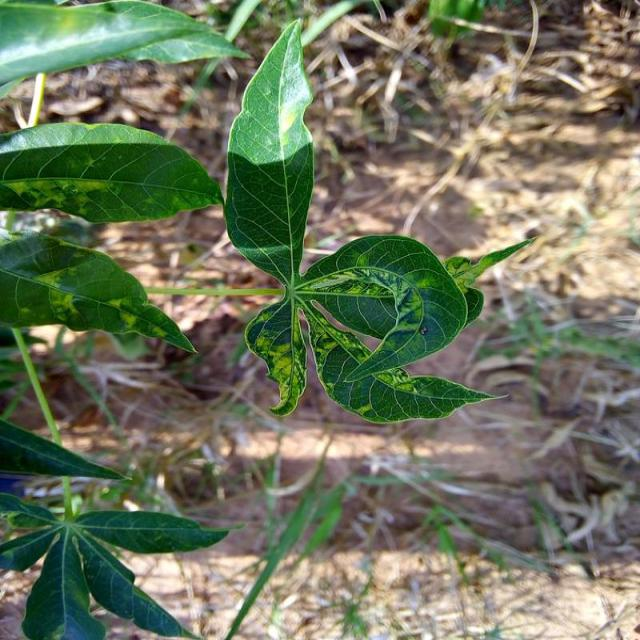cassava leaf: (222, 17, 534, 425), (0, 228, 198, 356), (222, 17, 316, 285), (0, 0, 248, 97), (0, 119, 224, 223)
